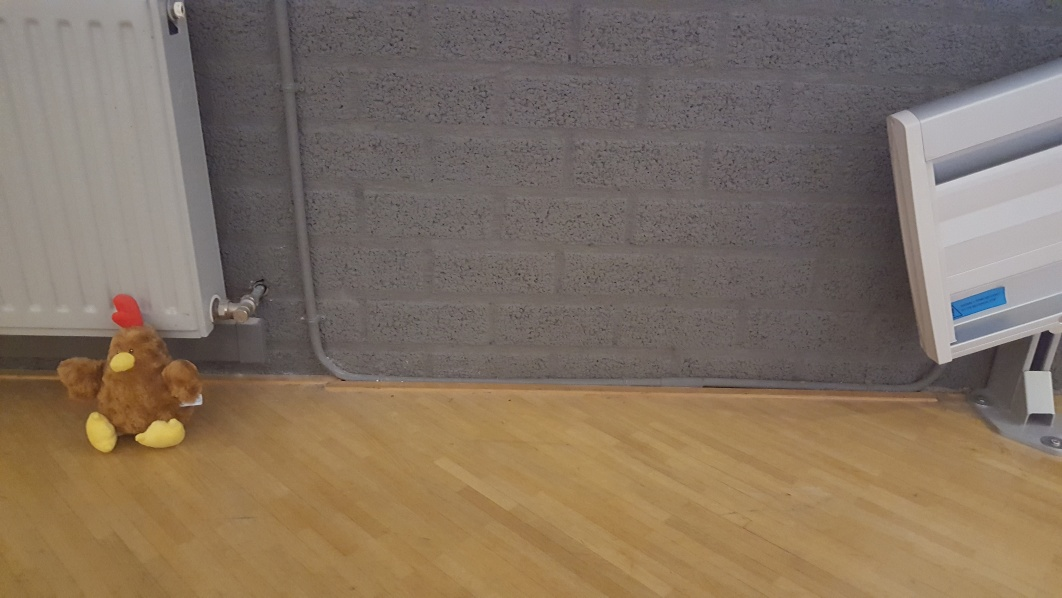chicken: (57, 294, 207, 455)
